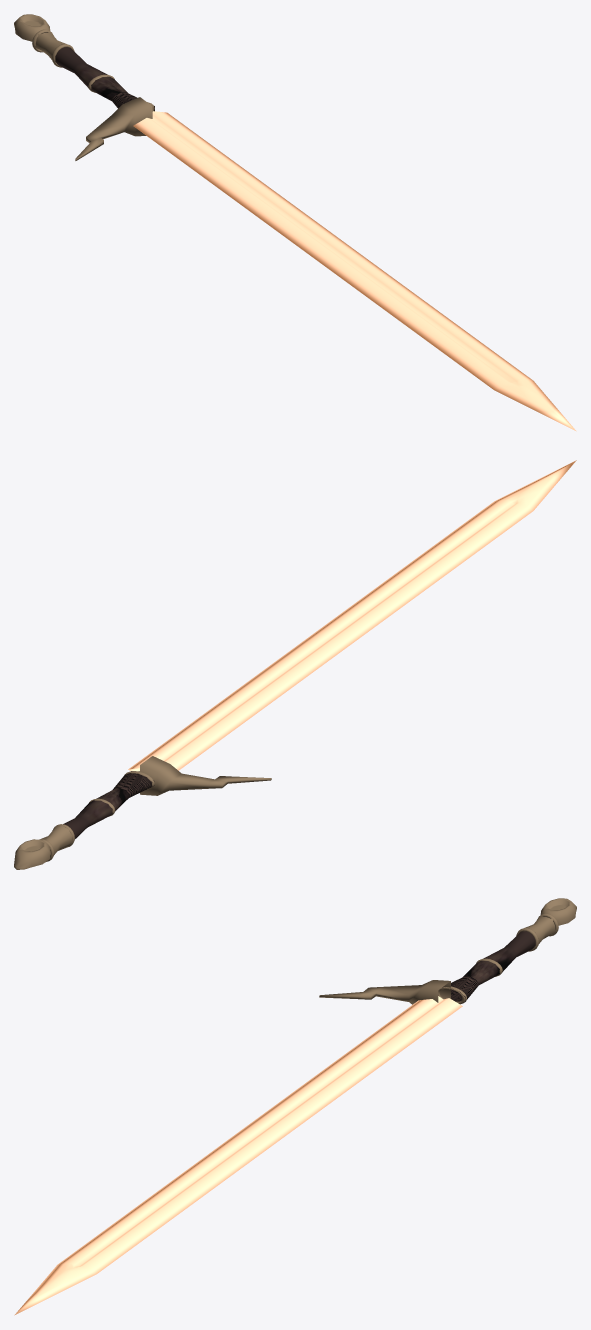
File: sword.glb
3 renders of one model, top to bottom at view 1: azimuth 30°, elevation 25°; view 2: azimuth 150°, elevation 25°; view 3: azimuth 330°, elevation 25°, orthographic.
Parts seen in each view (by area): view 1: Cube, Cylinder, Cylinder.001, Cylinder.003; view 2: Cube, Cylinder, Cylinder.001, Cylinder.003; view 3: Cube, Cylinder.001, Cylinder, Cylinder.003.
Part boxes in pixels (<box>): Cube: <box>133,111,576,431</box>; Cylinder: <box>75,97,152,160</box>; Cylinder.001: <box>55,47,154,111</box>; Cylinder.003: <box>14,14,50,41</box>; Cube: <box>128,460,576,771</box>; Cylinder: <box>140,756,271,795</box>; Cylinder.001: <box>63,771,154,839</box>; Cylinder.003: <box>14,839,50,869</box>; Cube: <box>14,996,462,1315</box>; Cylinder.001: <box>442,931,535,1003</box>; Cylinder: <box>319,980,450,1004</box>; Cylinder.003: <box>540,898,576,925</box>.
Size of the model in its own units: 1.07 by 0.26 by 8.87.
Materials: 4 (1 with a texture image).
